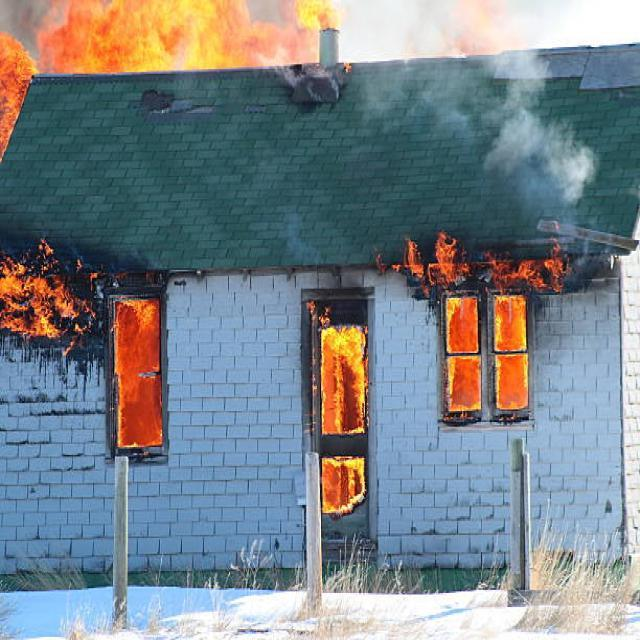Fire: (39, 0, 294, 75), (393, 230, 570, 294), (443, 294, 534, 418), (318, 323, 368, 515), (0, 244, 93, 344), (110, 301, 167, 454), (0, 25, 37, 160), (293, 0, 338, 28)
Smoke: (432, 45, 598, 205), (0, 0, 44, 72)
